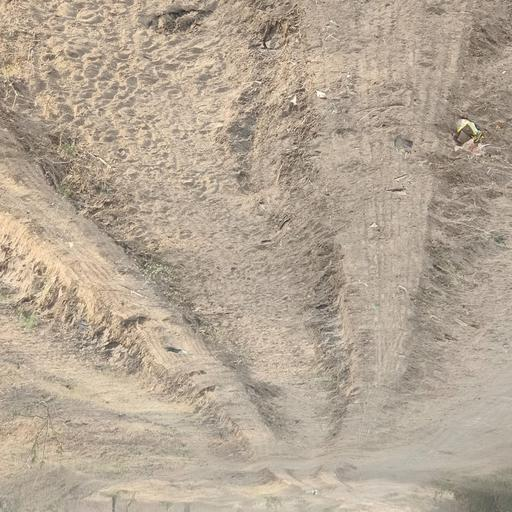vehicle_track: (0, 119, 284, 459), (288, 0, 471, 488)
